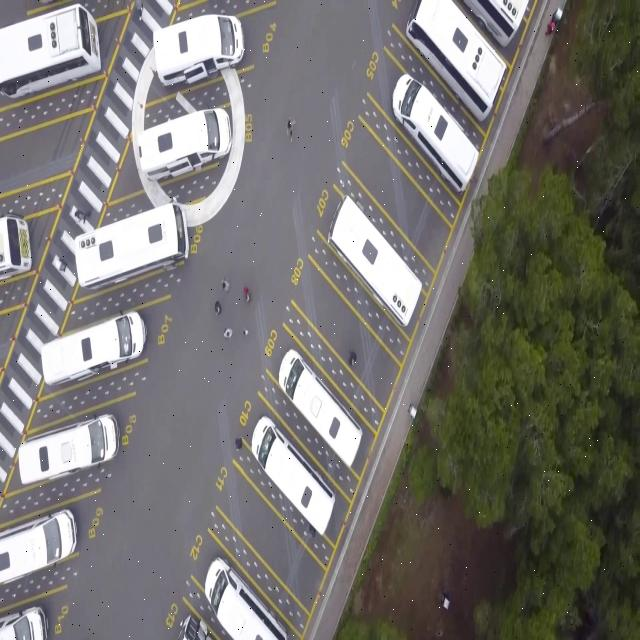people: (74, 209, 91, 225), (286, 116, 296, 142), (243, 283, 251, 303), (348, 351, 358, 367), (222, 276, 230, 294), (223, 327, 234, 339), (235, 436, 243, 452), (215, 300, 222, 316), (243, 326, 249, 338)
